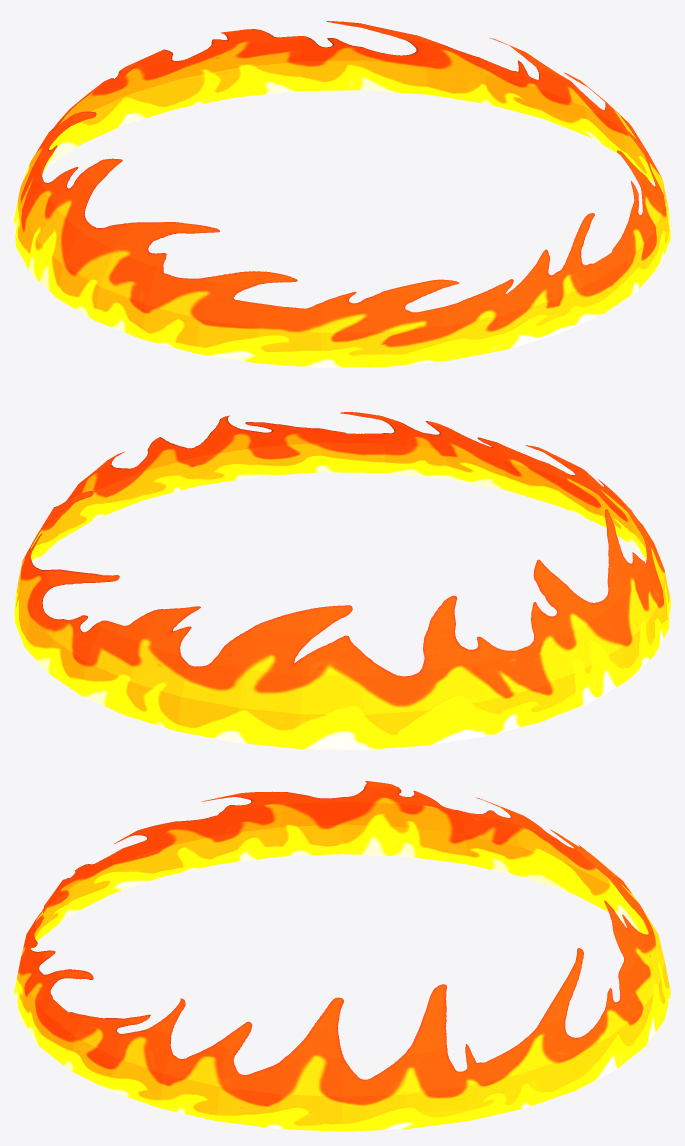
Rendered from fuegodance.glb.
3 renders of one model, top to bottom at view 1: azimuth 30°, elevation 25°; view 2: azimuth 150°, elevation 25°; view 3: azimuth 270°, elevation 25°, orthographic.
Visible parts, largest first — view 1: Sphere.001; view 2: Sphere.001; view 3: Sphere.001.
Boxes of the visible parts, x1=… form: Sphere.001: x1=14, y1=21, x2=670, y2=367; Sphere.001: x1=14, y1=412, x2=670, y2=749; Sphere.001: x1=14, y1=781, x2=670, y2=1131.
Bounding box in the file's own units: 4.53 × 0.8872 × 4.53.
Materials: 1 (1 with a texture image).
